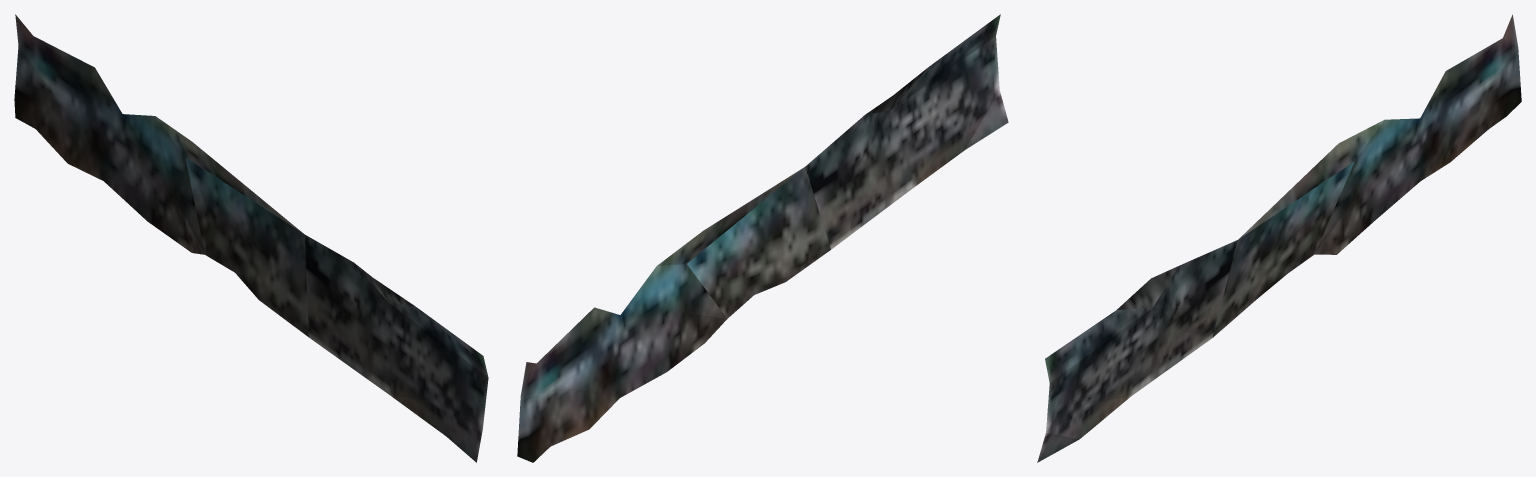
Rendered from meshes_1-dynamic - BLK2GO-3630355-Scan 080 20.obj.
The picture shows the model from 3 angles, left to right: view 1: azimuth 30°, elevation 25°; view 2: azimuth 150°, elevation 25°; view 3: azimuth 330°, elevation 25°; orthographic projection. The views are drawn at different scales.
Visible parts, largest first — view 1: 1-dynamic_-_BLK2GO-3630355-Scan_080_20_0; view 2: 1-dynamic_-_BLK2GO-3630355-Scan_080_20_0; view 3: 1-dynamic_-_BLK2GO-3630355-Scan_080_20_0.
Part boxes in pixels (x1=…): 1-dynamic_-_BLK2GO-3630355-Scan_080_20_0: x1=14, y1=14, x2=488, y2=462; 1-dynamic_-_BLK2GO-3630355-Scan_080_20_0: x1=517, y1=14, x2=1008, y2=462; 1-dynamic_-_BLK2GO-3630355-Scan_080_20_0: x1=1037, y1=14, x2=1521, y2=462.
Bounding box in the file's own units: 0.0282 × 0.217 × 1.68.
1 material, 1 textured.
